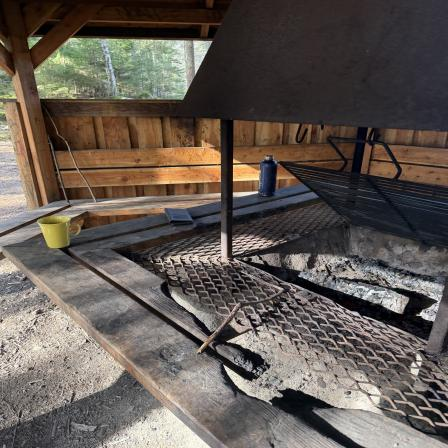blue_bottle: (259, 154, 278, 198)
phone: (165, 206, 196, 227)
yellow_cup: (36, 214, 82, 252)
